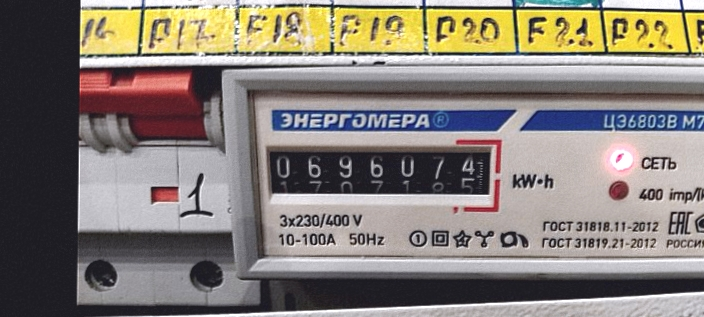0: (272, 154, 291, 179), (399, 152, 415, 179)
4: (460, 152, 476, 176)
5: (460, 176, 475, 194)
6: (305, 152, 324, 179), (367, 154, 384, 178)
7: (428, 154, 446, 180)
9: (335, 154, 354, 179)
screen: (254, 132, 507, 216)
